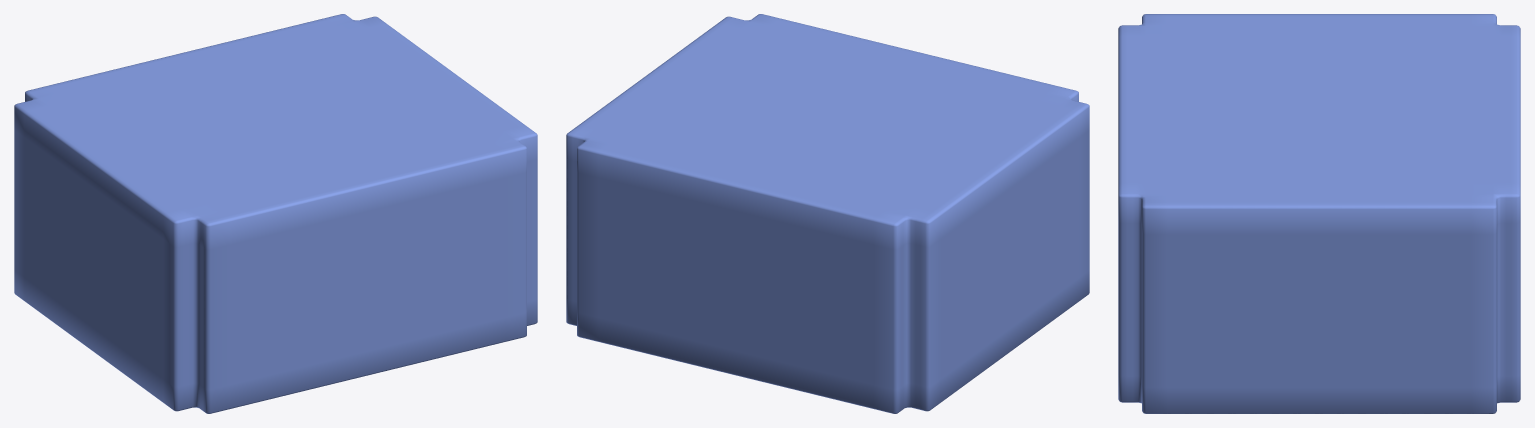
The model's file is PlayerBase1.fbx.
The picture shows the model from 3 angles, left to right: view 1: azimuth 30°, elevation 25°; view 2: azimuth 150°, elevation 25°; view 3: azimuth 270°, elevation 25°; orthographic projection. The views are drawn at different scales.
Visible parts, largest first — view 1: base; view 2: base; view 3: base.
Part boxes in pixels (x1=…): base: x1=14, y1=14, x2=537, y2=413; base: x1=566, y1=14, x2=1089, y2=413; base: x1=1118, y1=14, x2=1520, y2=413.
Size of the model in its own units: 400 by 200 by 350.
